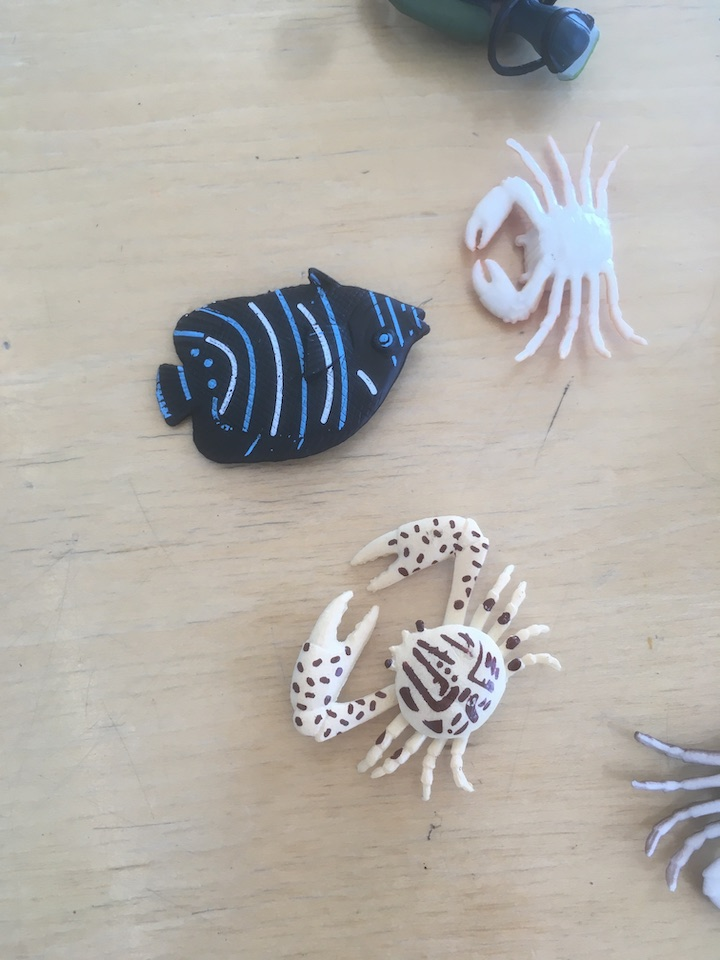crab: (281, 509, 567, 801), (459, 119, 658, 370), (625, 724, 720, 915)
diver: (372, 1, 608, 92)
fish: (150, 262, 435, 469)
